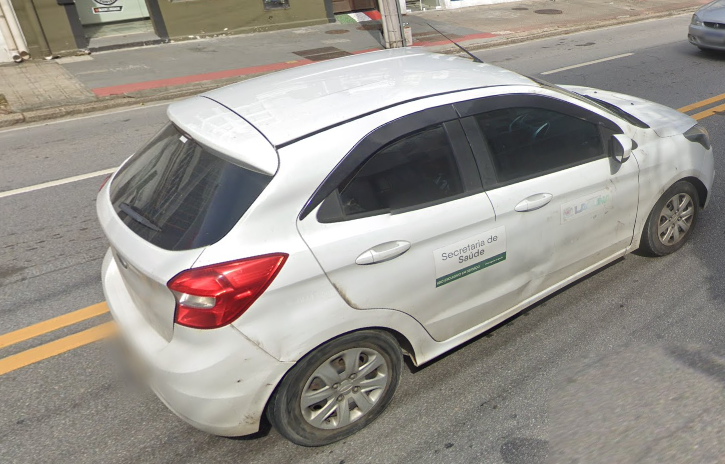car: (95, 45, 715, 445)
